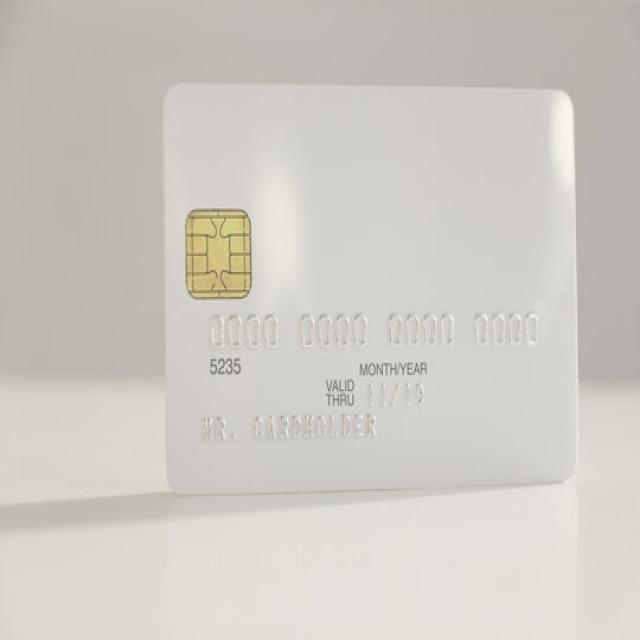payment_card: (162, 81, 579, 495)
